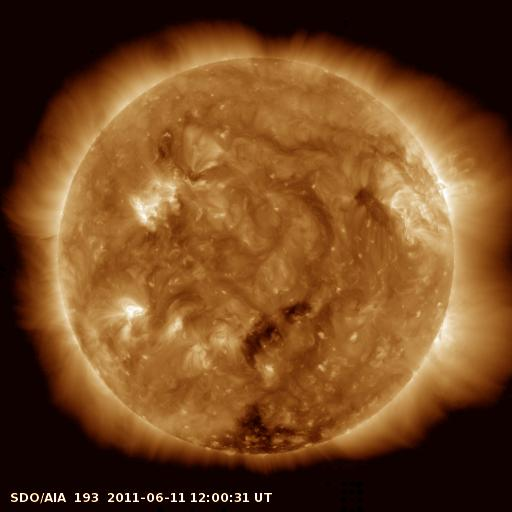coronal_hole: (201, 403, 335, 455), (237, 301, 307, 365)
